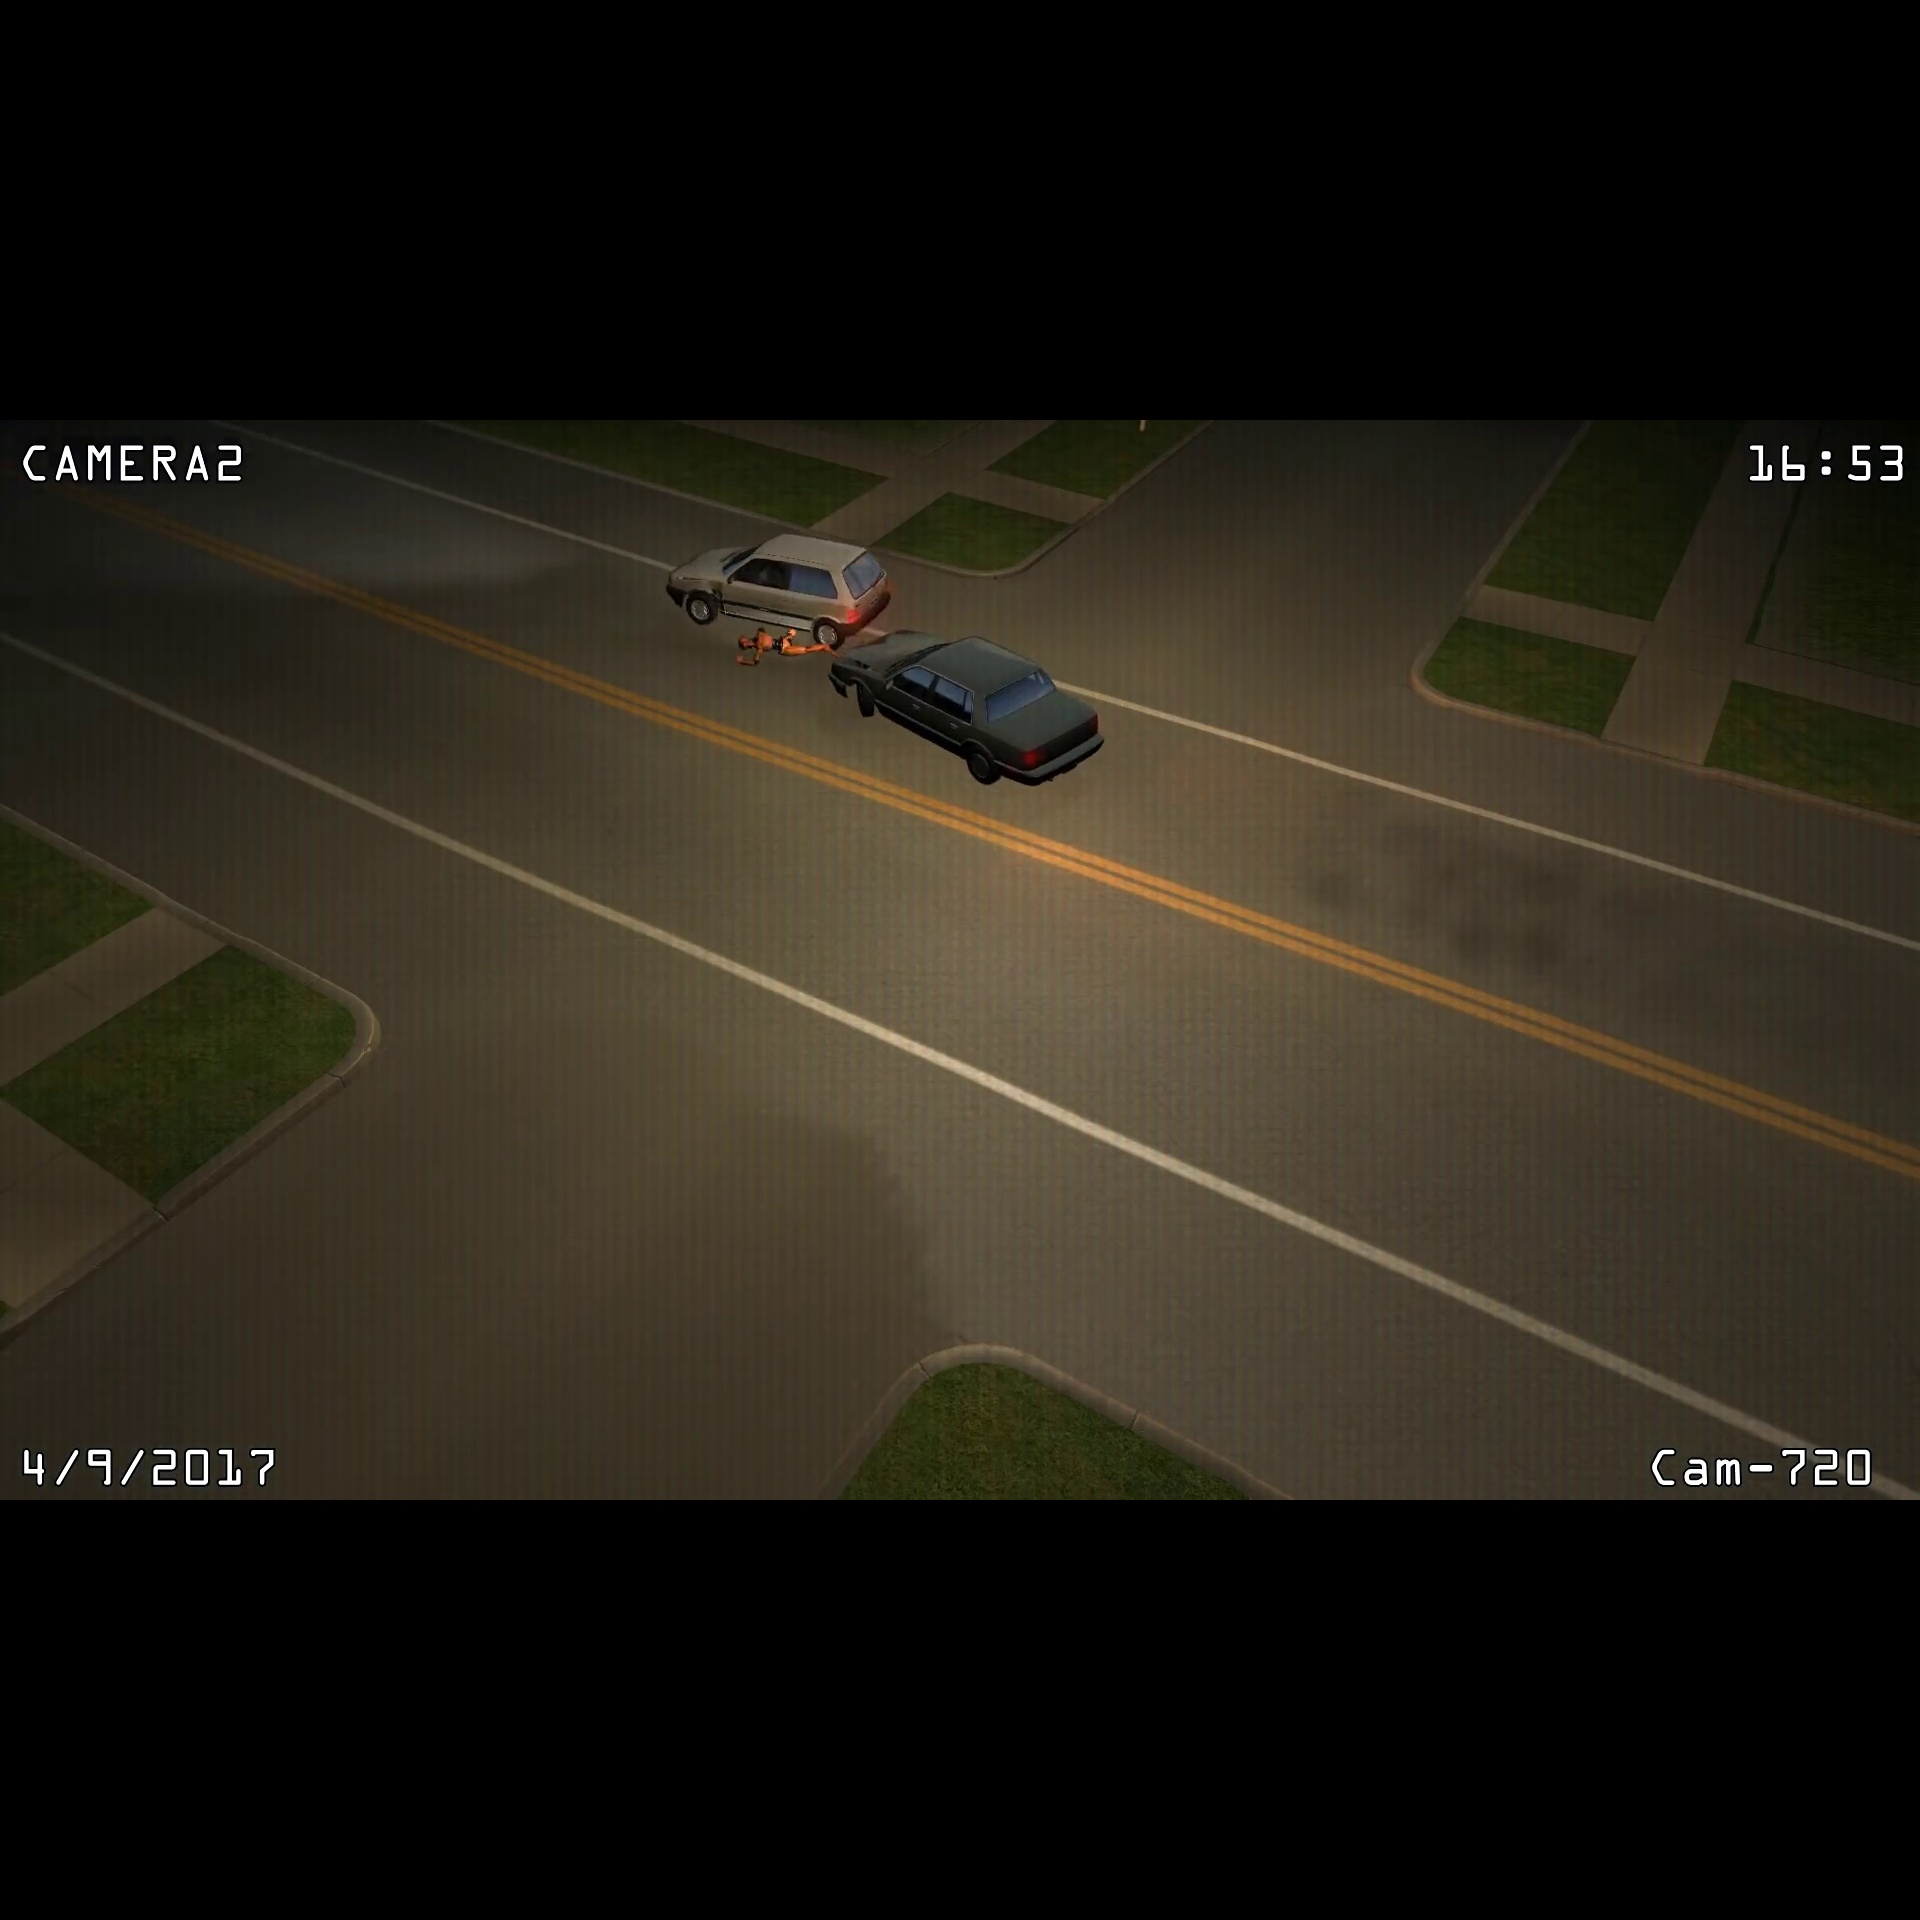vehicle: (819, 621, 1111, 793), (658, 522, 895, 652)
